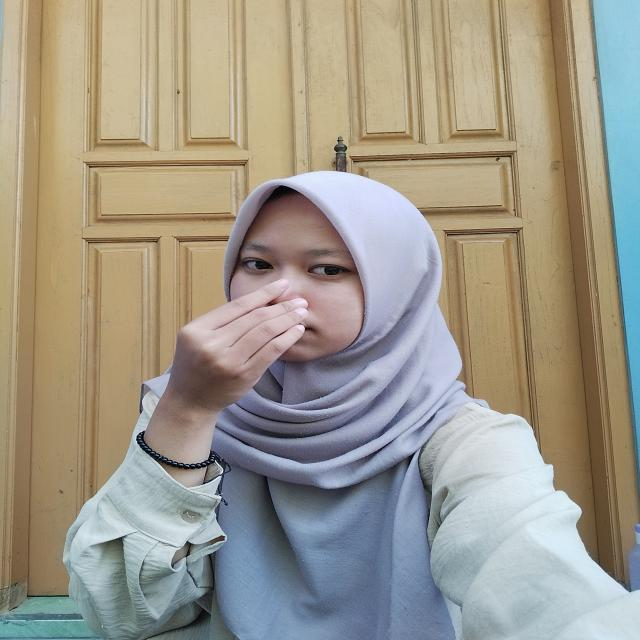bau: (170, 270, 317, 404)
